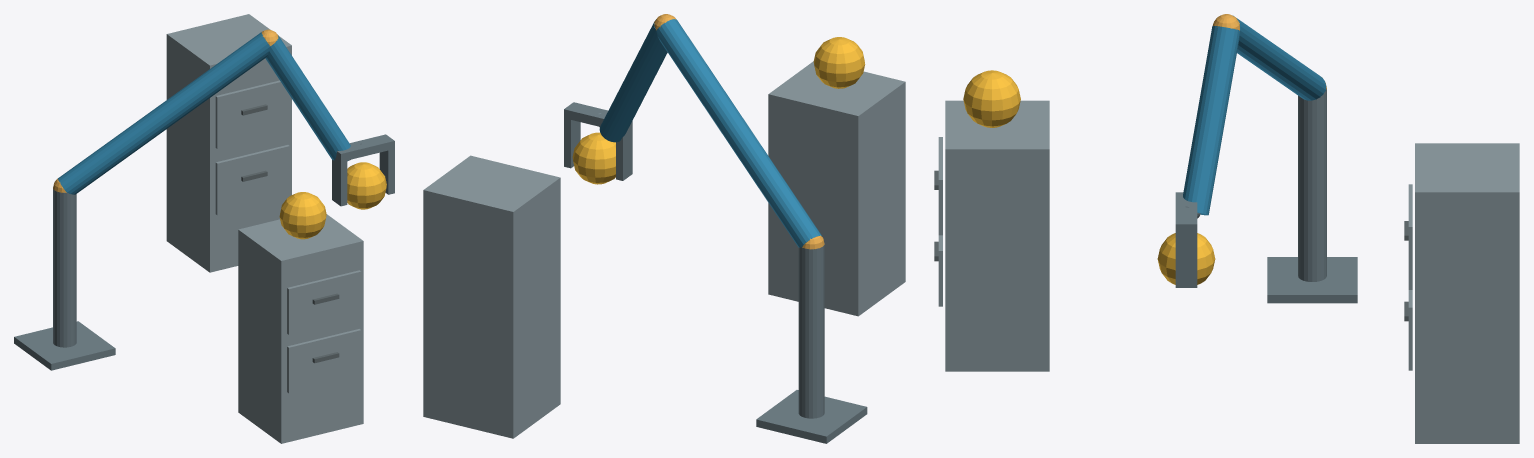
3 renders of one model, left to right at view 1: azimuth 30°, elevation 25°; view 2: azimuth 150°, elevation 25°; view 3: azimuth 270°, elevation 25°, orthographic. The views are drawn at different scales.
Parts seen in each view (by area): view 1: cabinet_1 body, cabinet_2 body, moving link 1, cabinet_2 drawer front, cabinet_2 drawer front.001, fixed post, cabinet_1 drawer front, cabinet_1 drawer front.001, moving link 2, pedestal, released ball_1, ball ball_2 (+3 smaller); view 2: cabinet_2 body, cabinet_1 body, moving link 1, fixed post, pedestal, moving link 2, released ball_1, ball ball_2, gripper finger -1, gripper bridge, gripper finger 1; view 3: cabinet_2 body, cabinet_1 body, moving link 2, fixed post, pedestal, moving link 1, released ball_1, ball ball_2, gripper finger 1, gripper bridge.
Boxes of the visible parts, box(x1,y1,x2,y2) form: cabinet_1 body: box(238, 214, 363, 443); cabinet_2 body: box(166, 14, 291, 272); moving link 1: box(58, 32, 270, 194); cabinet_2 drawer front: box(215, 145, 289, 215); cabinet_2 drawer front.001: box(215, 80, 289, 148); fixed post: box(53, 187, 76, 347); cabinet_1 drawer front: box(287, 329, 361, 393); cabinet_1 drawer front.001: box(287, 270, 361, 334); moving link 2: box(265, 35, 350, 160); pedestal: box(14, 321, 115, 370); released ball_1: box(279, 192, 326, 239); ball ball_2: box(347, 162, 386, 209); cabinet_2 body: box(423, 155, 560, 438); cabinet_1 body: box(768, 61, 905, 316); moving link 1: box(656, 19, 822, 247); fixed post: box(798, 243, 824, 418); pedestal: box(756, 390, 867, 443); moving link 2: box(599, 20, 667, 142); released ball_1: box(813, 37, 865, 88); ball ball_2: box(572, 132, 615, 184); gripper finger -1: box(616, 126, 632, 180); gripper bridge: box(564, 102, 632, 128); gripper finger 1: box(564, 118, 580, 168); cabinet_2 body: box(1415, 143, 1519, 443); cabinet_1 body: box(945, 100, 1049, 371); moving link 2: box(1183, 25, 1239, 215); fixed post: box(1298, 88, 1326, 281); pedestal: box(1267, 257, 1357, 303); moving link 1: box(1233, 15, 1326, 100); released ball_1: box(963, 70, 1020, 127); ball ball_2: box(1157, 233, 1215, 284); gripper finger 1: box(1175, 234, 1197, 287); gripper bridge: box(1175, 192, 1197, 233).
Bounding box in the file's own units: 1.19 × 1.13 × 1.62.
